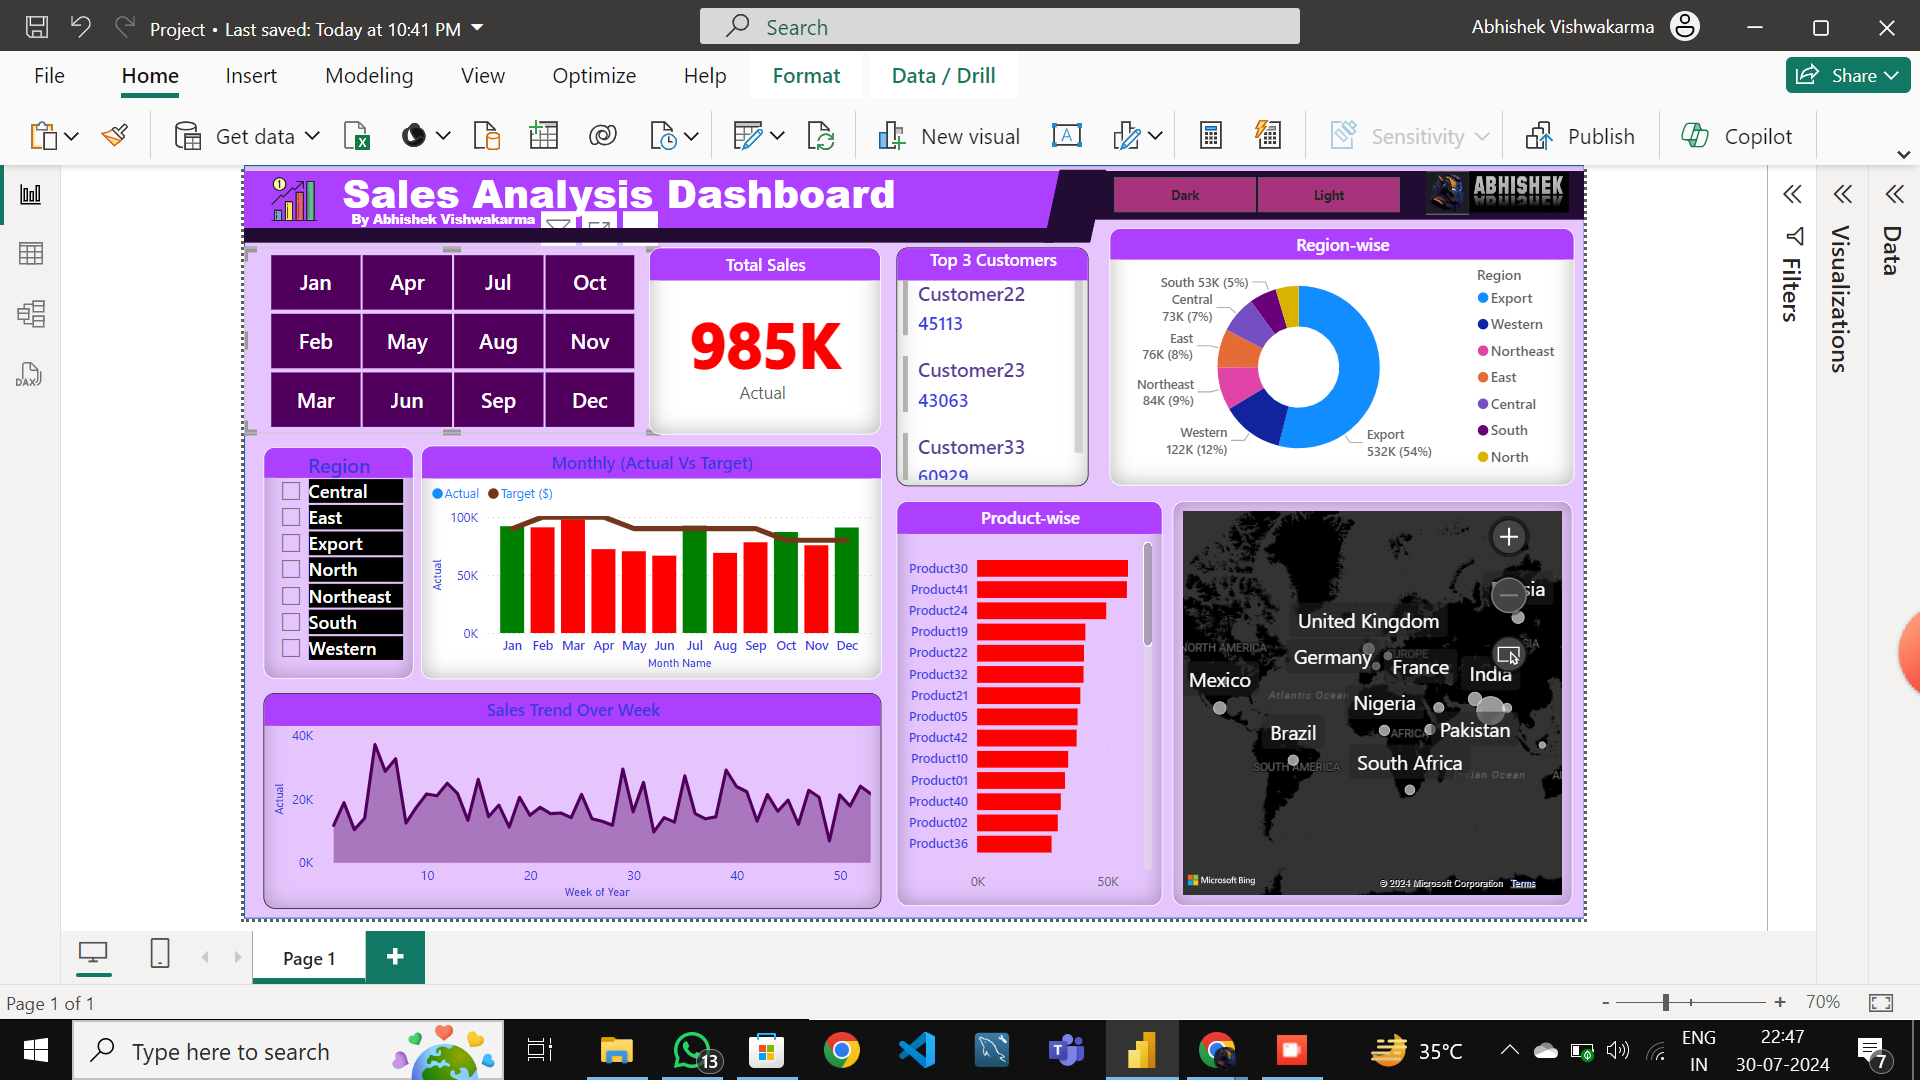

The dashboard page shown, as its layout file describes it:
{"tool":"powerbi","page":{"name":"Page 1","canvas":[1280,720],"ordinal":0},"visuals":[{"type":"shape","box":[0,63.6,806.4,11.1],"z":0},{"type":"shape","box":[0,0,1280.3,719.7],"z":1000},{"type":"shape","box":[807,5.6,473.2,46.5],"z":2000},{"type":"shape","box":[0,6.4,793.7,55.7],"z":3000},{"type":"slicer","fields":{"Values":["InputData.Month Name "]},"box":[0,78.5,396.9,178.5],"z":4000},{"type":"card","title":"Total Sales ","fields":{"Values":["Sum(InputData.Actual )"]},"box":[386.9,78.7,221.3,178.7],"z":5000},{"type":"slicer","title":"Region","fields":{"Values":["Country.Region"]},"box":[18.5,269.2,143.1,221.5],"z":6000},{"type":"lineStackedColumnComboChart","title":"Monthly (Actual Vs Target)","fields":{"Category":["TargetData.Month Name"],"Y":["Sum(InputData.Actual )"],"Y2":["Sum(TargetData.Target ($))"]},"box":[169.2,267.7,440,223.1],"z":7000},{"type":"stackedAreaChart","title":"Sales Trend Over Week","fields":{"Category":["InputData.Week of Year"],"Y":["Sum(InputData.Actual )"]},"box":[18.5,504,590,206.2],"z":8000},{"type":"multiRowCard","title":"Top 3 Customers","fields":{"Values":["Country.Customer Name","Sum(InputData.Actual )"]},"box":[623,78.7,183.6,227.9],"z":9000},{"type":"clusteredBarChart","title":"Product-wise","fields":{"Category":["InputData.PRODUCT"],"Y":["Sum(InputData.Actual )"]},"box":[623,321.3,254.1,386.9],"z":10000},{"type":"donutChart","title":"Region-wise","fields":{"Category":["Country.Region"],"Y":["Sum(InputData.Actual )"]},"box":[826.2,60.7,444.3,245.9],"z":11000},{"type":"map","fields":{"Category":["Country.Country"],"Size":["Sum(InputData.Actual )"]},"box":[886.9,321.3,382,386.9],"z":12000},{"type":"shape","box":[0,60.8,773.3,14.2],"z":13000},{"type":"shape","box":[763.3,5,60,70],"z":14000},{"type":"textbox","box":[0,0,734.3,71],"z":15000},{"type":"textbox","box":[97.1,40,300,21],"z":16000},{"type":"image","box":[0,0,96.2,67.5],"z":17000},{"type":"image","box":[1114.4,0,70,52.2],"z":18000},{"type":"image","box":[1164.4,0,105.6,52.2],"z":19000},{"type":"slicer","fields":{"Values":["Themes.Theme"]},"box":[805.6,4.2,322.5,47.9],"z":20000}]}

Visuals, with their boxes on the page's 1280x720 design canvas (x1, y1, x2, y2). These are canvas units, not pixel positions in the 1920x1080 screenshot, which may show the page scaled, cropped or inside an application window:
shape: locate(0, 64, 806, 75)
shape: locate(0, 0, 1280, 720)
shape: locate(807, 6, 1280, 52)
shape: locate(0, 6, 794, 62)
slicer - InputData.Month Name : locate(0, 78, 397, 257)
"Total Sales " card: locate(387, 79, 608, 257)
"Region" slicer: locate(18, 269, 162, 491)
"Monthly (Actual Vs Target)" lineStackedColumnComboChart: locate(169, 268, 609, 491)
"Sales Trend Over Week" stackedAreaChart: locate(18, 504, 608, 710)
"Top 3 Customers" multiRowCard: locate(623, 79, 807, 307)
"Product-wise" clusteredBarChart: locate(623, 321, 877, 708)
"Region-wise" donutChart: locate(826, 61, 1270, 307)
map - Country.Country x Sum(InputData.Actual ): locate(887, 321, 1269, 708)
shape: locate(0, 61, 773, 75)
shape: locate(763, 5, 823, 75)
textbox: locate(0, 0, 734, 71)
textbox: locate(97, 40, 397, 61)
image: locate(0, 0, 96, 68)
image: locate(1114, 0, 1184, 52)
image: locate(1164, 0, 1270, 52)
slicer - Themes.Theme: locate(806, 4, 1128, 52)
